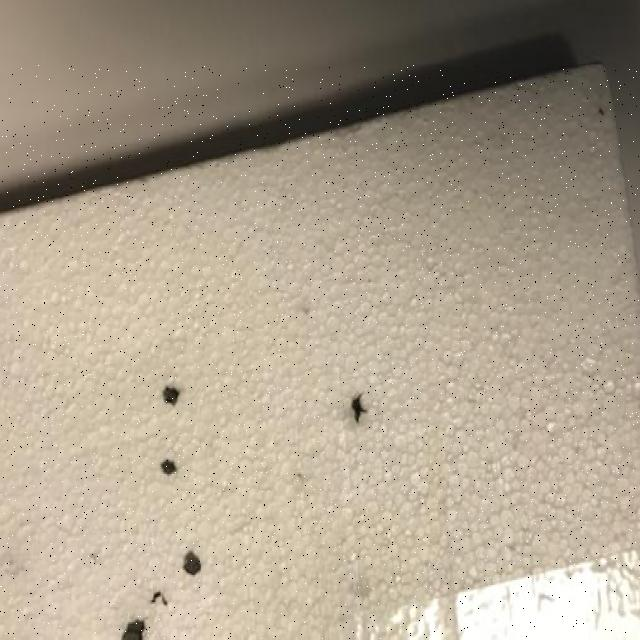styrofoam: (0, 66, 640, 639)
